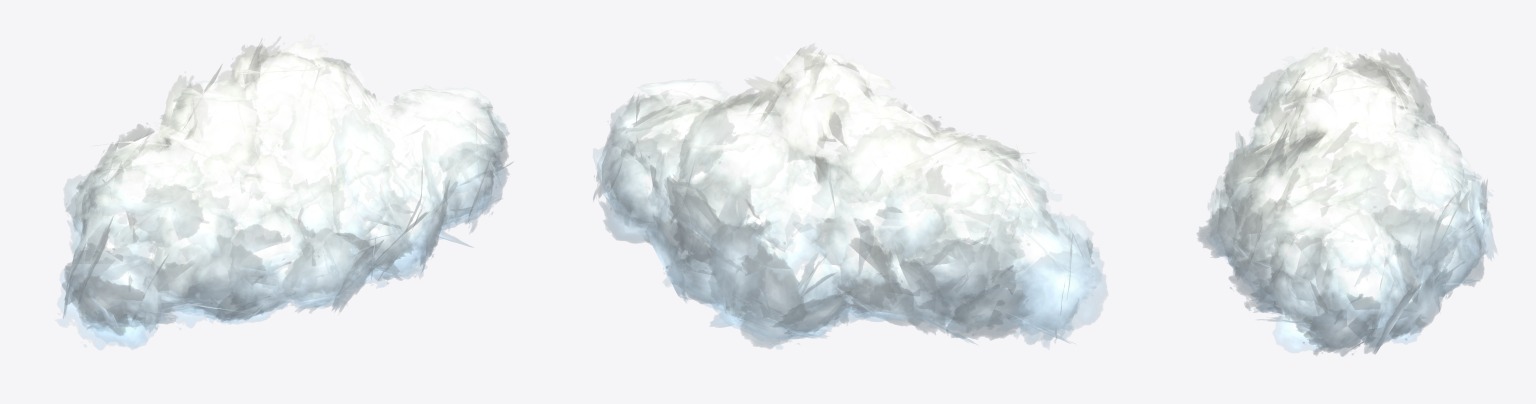
File: cloud-soft.glb
3 renders of one model, left to right at view 1: azimuth 30°, elevation 25°; view 2: azimuth 150°, elevation 25°; view 3: azimuth 270°, elevation 25°, orthographic. The views are drawn at different scales.
Parts seen in each view (by area): view 1: Plane001_08 - Default_0; view 2: Plane001_08 - Default_0; view 3: Plane001_08 - Default_0.
Boxes of the visible parts, x1,y1,x2,y2 form: Plane001_08 - Default_0: (55, 35, 512, 349); Plane001_08 - Default_0: (593, 44, 1107, 349); Plane001_08 - Default_0: (1197, 46, 1496, 356).
Bounding box in the file's own units: 9.97 × 5.59 × 6.02.
Materials: 1 (1 with a texture image).
